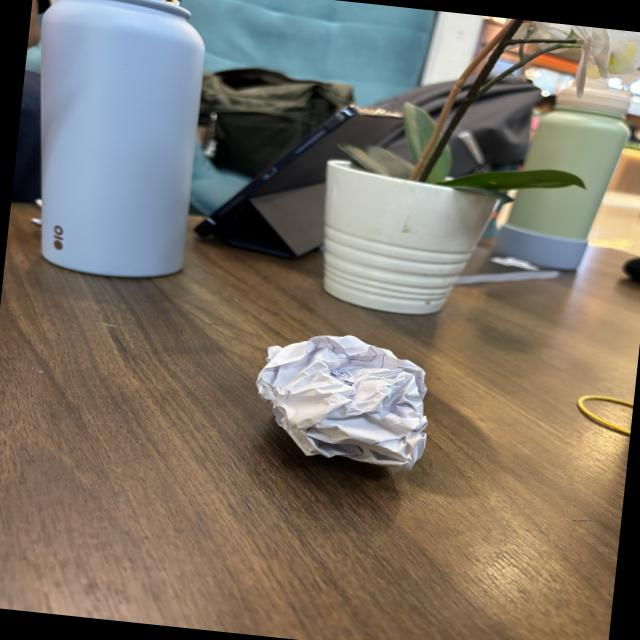crumpled_paper: (237, 316, 450, 486)
